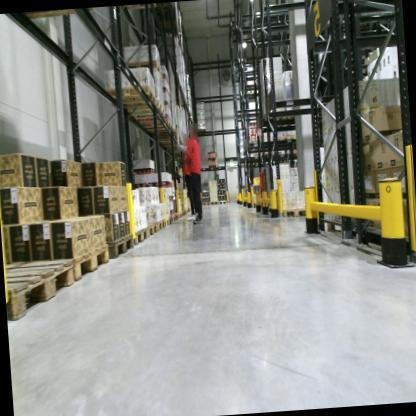pallet: (5, 256, 78, 324), (71, 241, 113, 284), (3, 7, 98, 25), (105, 86, 158, 110), (107, 231, 137, 263), (327, 216, 357, 243), (118, 103, 168, 119), (269, 204, 309, 221), (129, 120, 173, 133), (132, 227, 151, 247), (120, 4, 162, 13), (277, 134, 298, 146), (146, 221, 159, 238), (155, 217, 167, 235), (197, 127, 207, 138), (168, 215, 176, 226), (207, 165, 218, 171), (165, 216, 171, 226), (210, 200, 219, 206), (201, 201, 210, 207), (218, 200, 227, 205)
